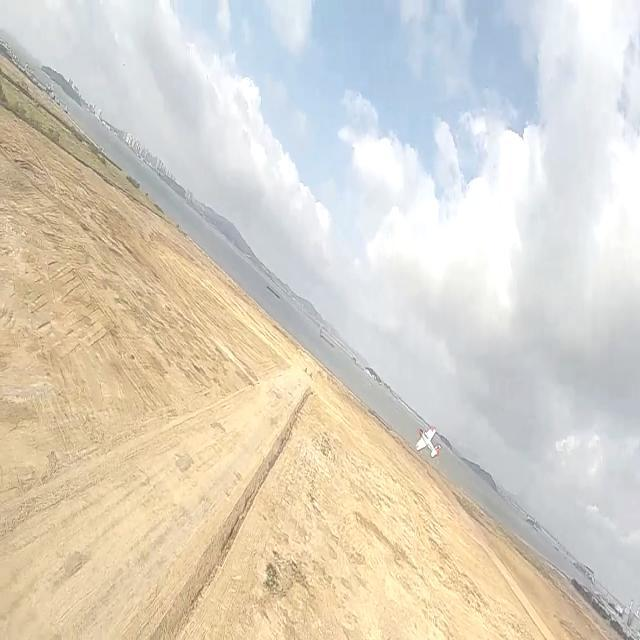iha: (407, 422, 449, 466)
